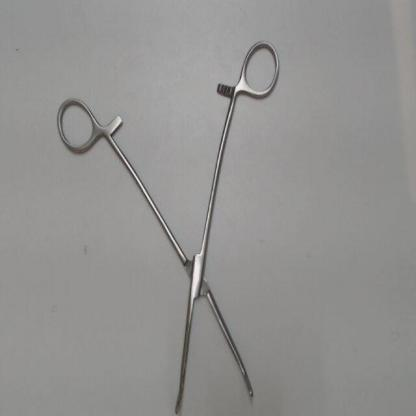Lahey Forceps: (44, 26, 288, 413)
